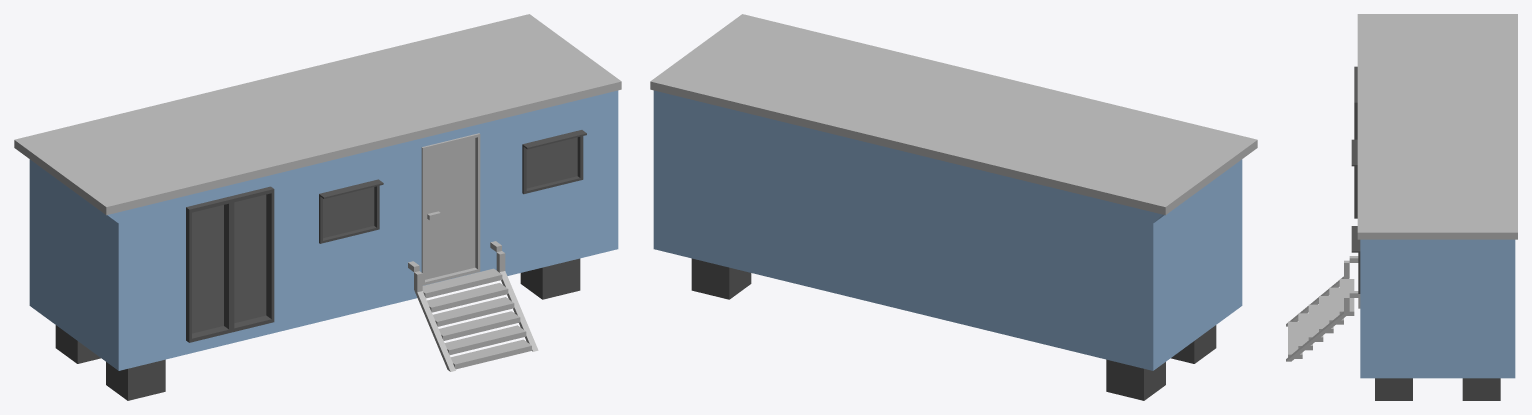
File: trailer1 1.fbx
3 renders of one model, left to right at view 1: azimuth 30°, elevation 25°; view 2: azimuth 150°, elevation 25°; view 3: azimuth 270°, elevation 25°, orthographic. The views are drawn at different scales.
Parts seen in each view (by area): view 1: House; view 2: House; view 3: House.
Part boxes in pixels (x1,y1,x2,y2): House: (14,14,621,400); House: (650,14,1257,400); House: (1286,14,1517,400).
Size of the model in its own units: 1336 by 517 by 599.
